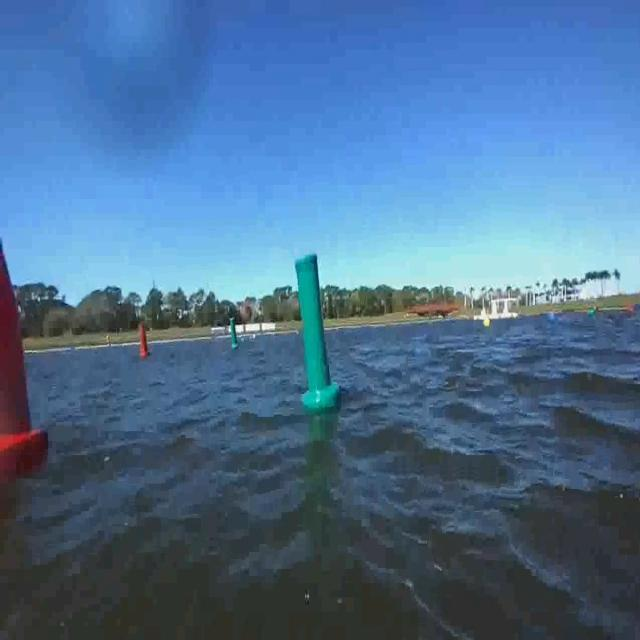blue-buoy: (548, 311, 554, 322)
green-column-buoy: (292, 250, 338, 410), (229, 320, 239, 350)
red-column-buoy: (0, 200, 50, 473), (138, 323, 150, 358)
yellow-buoy: (484, 320, 492, 332)
